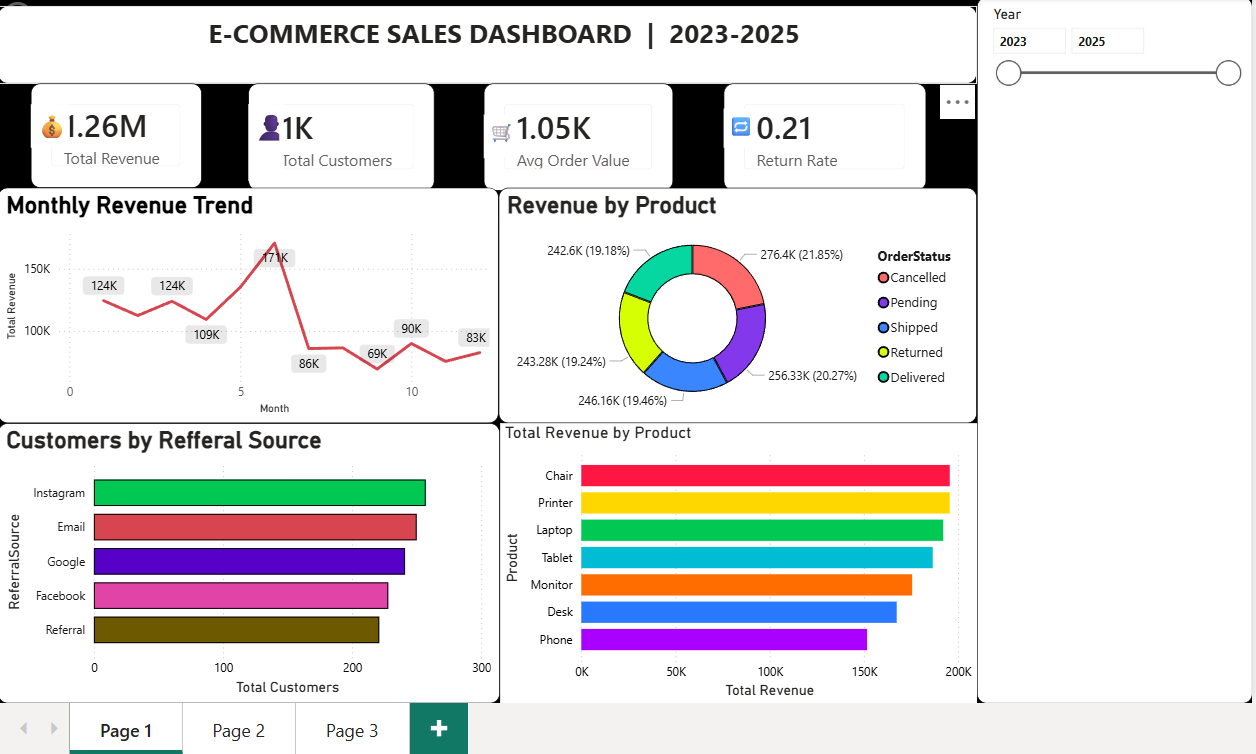

This screenshot's page, from the dashboard's own definition file:
{"tool":"powerbi","page":{"name":"Page 1","canvas":[1280,720],"ordinal":0},"visuals":[{"type":"actionButton","box":[0,0,100,40],"z":0},{"type":"textbox","box":[0,9.1,998.7,79],"z":1000},{"type":"cardVisual","fields":{"Data":["Fact Table.Total Revenue"]},"box":[33.4,88.2,174.8,106.4],"z":2000},{"type":"cardVisual","fields":{"Data":["Fact Table.Total Customers"]},"box":[255.4,88.2,190,109.4],"z":3000},{"type":"cardVisual","fields":{"Data":["Fact Table.Avg Order Value"]},"box":[495.5,88.2,193.1,109.4],"z":4000},{"type":"cardVisual","fields":{"Data":["Fact Table.Return Rate"]},"box":[740.3,88.2,206.7,109.4],"z":5000},{"type":"lineChart","title":"Monthly Revenue Trend","fields":{"Category":["Fact Table.Month"],"Y":["Fact Table.Total Revenue"]},"box":[0,194.6,510.8,240.2],"z":6000},{"type":"donutChart","title":"Revenue by Product","fields":{"Y":["Fact Table.Total Revenue"],"Category":["Fact Table.OrderStatus"]},"box":[510.8,194.6,487.9,240.2],"z":7000},{"type":"clusteredBarChart","title":"Customers by Refferal Source","fields":{"Category":["Fact Table.ReferralSource"],"Y":["Fact Table.Total Customers"]},"box":[0,434.7,512.3,285.8],"z":8000},{"type":"slicer","fields":{"Values":["Fact Table.Year"]},"box":[998.7,0,281.2,720.5],"z":9000},{"type":"textbox","box":[33.4,109.4,39.5,44.1],"z":10000},{"type":"textbox","box":[255.4,109.4,36.5,77.5],"z":11000},{"type":"textbox","box":[495.5,120.1,33.4,44.1],"z":12000},{"type":"textbox","box":[740.3,114,33.4,39.5],"z":13000},{"type":"clusteredBarChart","fields":{"Category":["Fact Table.Product"],"Y":["Fact Table.Total Revenue"]},"box":[512.3,434.7,486.4,285.8],"z":14000}]}

Visuals, with their boxes on the page's 1280x720 design canvas (x1, y1, x2, y2). These are canvas units, not pixel positions in the 1256x754 screenshot, which may show the page scaled, cropped or inside an application window:
actionButton: 0 0 100 40
textbox: 0 9 999 88
cardVisual - Fact Table.Total Revenue: 33 88 208 195
cardVisual - Fact Table.Total Customers: 255 88 445 198
cardVisual - Fact Table.Avg Order Value: 496 88 689 198
cardVisual - Fact Table.Return Rate: 740 88 947 198
"Monthly Revenue Trend" lineChart: 0 195 511 435
"Revenue by Product" donutChart: 511 195 999 435
"Customers by Refferal Source" clusteredBarChart: 0 435 512 720
slicer - Fact Table.Year: 999 0 1280 720
textbox: 33 109 73 154
textbox: 255 109 292 187
textbox: 496 120 529 164
textbox: 740 114 774 154
clusteredBarChart - Fact Table.Product x Fact Table.Total Revenue: 512 435 999 720
